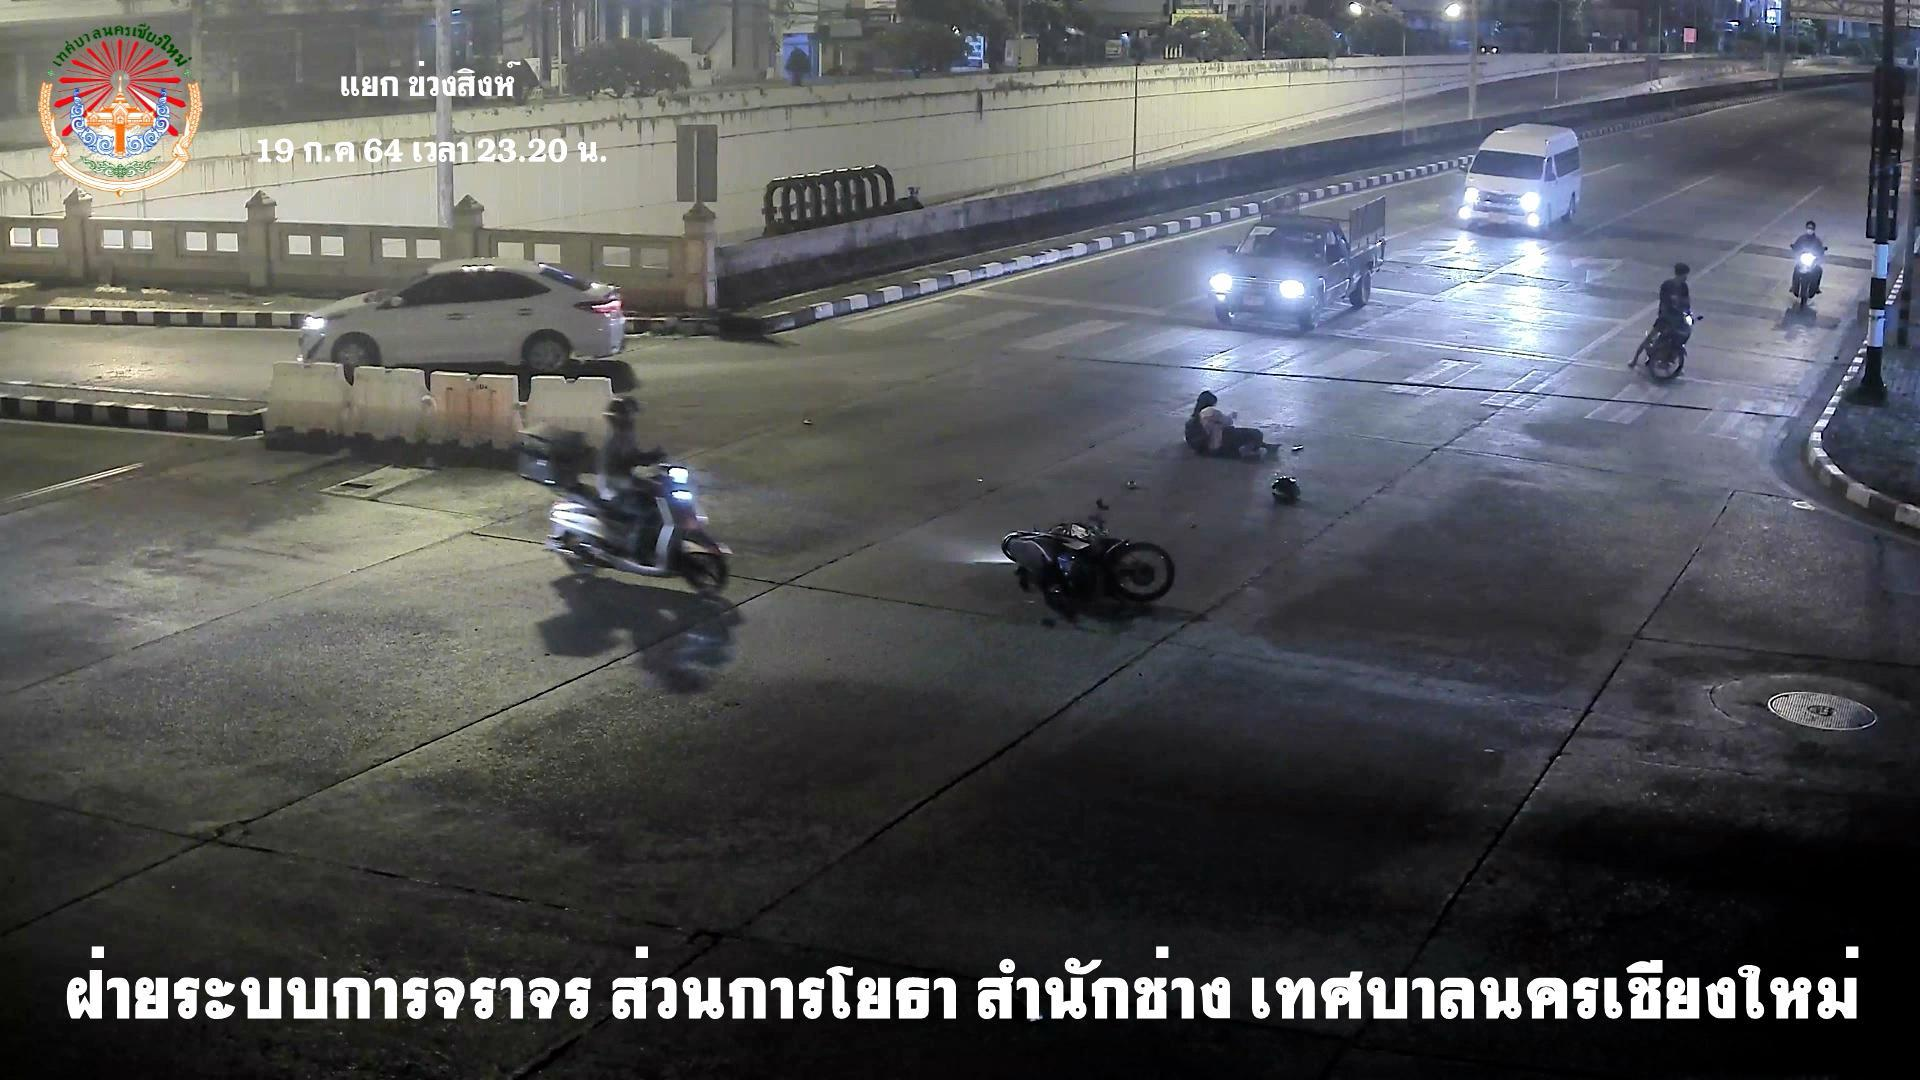accident: (1179, 384, 1287, 471)
